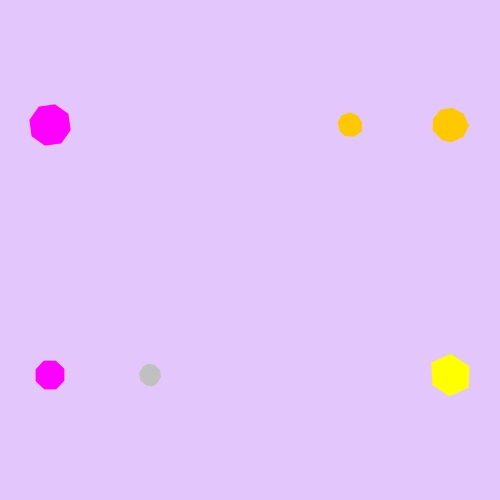decagon: (134, 361, 166, 390)
hexagon: (424, 354, 476, 397)
nonagon: (428, 104, 472, 146), (333, 109, 367, 141)
octagon: (25, 100, 75, 150), (31, 356, 70, 395)
